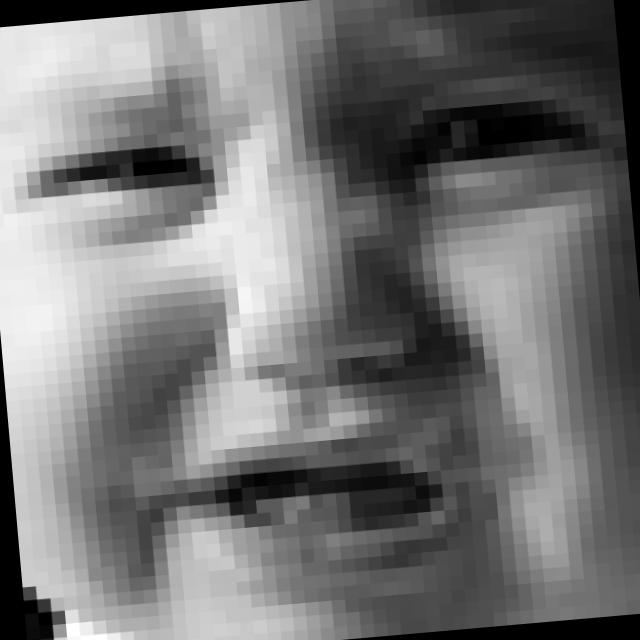disgust: (19, 27, 640, 609)
